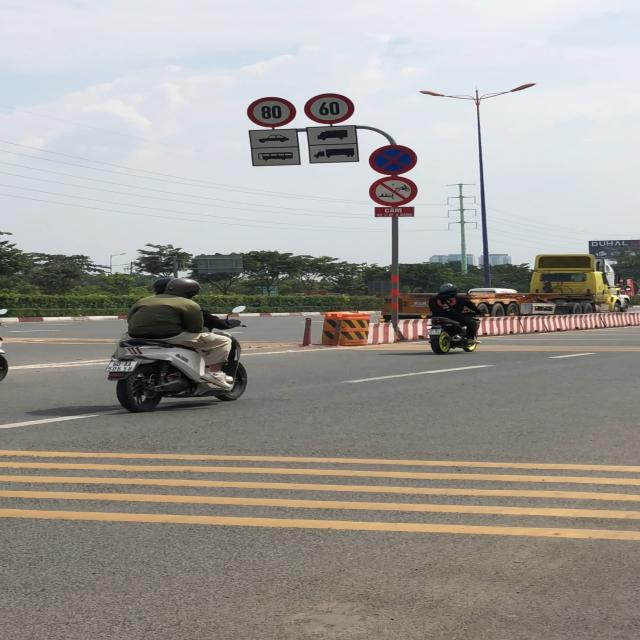Bien bao cam dung xe va do xe: (367, 144, 417, 176)
Bien bao toc do toi da cho phep: (303, 92, 358, 124), (245, 96, 299, 128)
